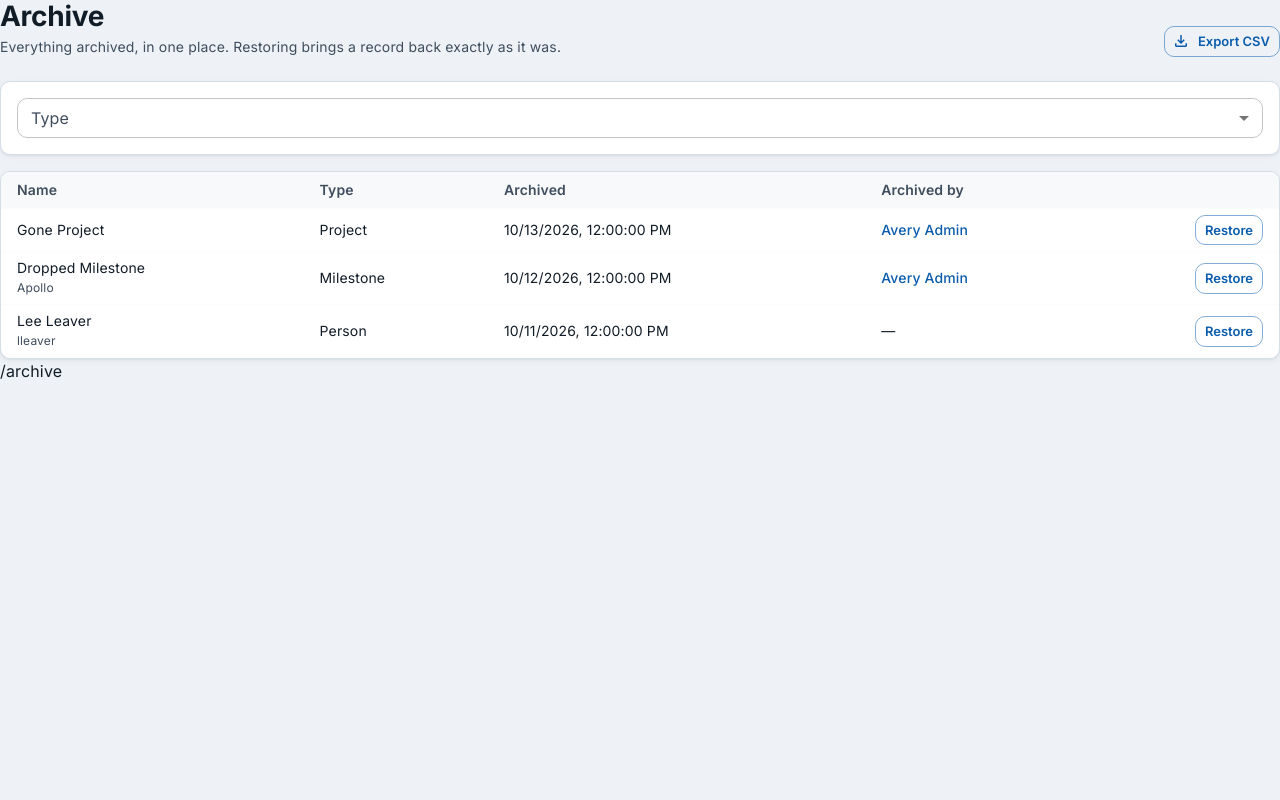
Test: ArchivePage › a failed restore shows the server's message
Click the button with aria-label "restore gone project". click: (1229, 230)
box: [1195,215,1263,246]
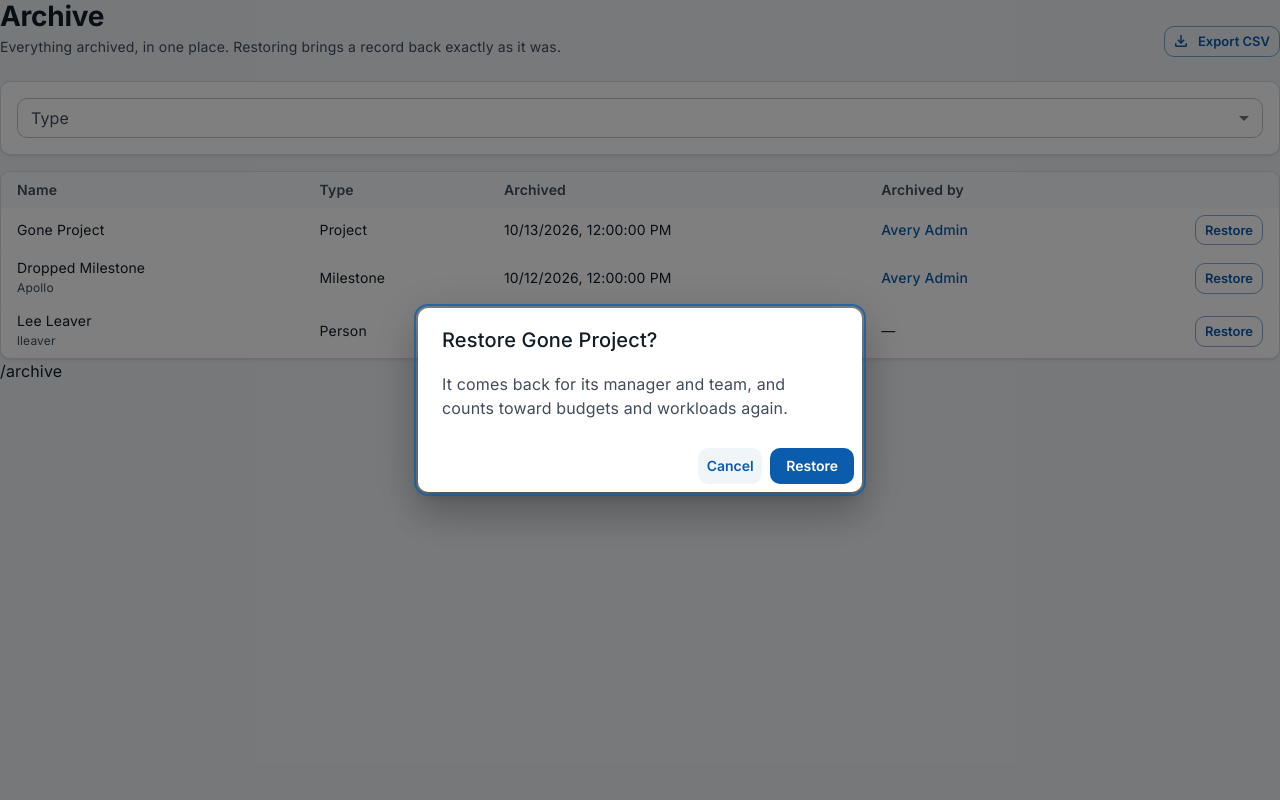
Click the button "Restore". click: (812, 466)
box: [770,448,854,484]
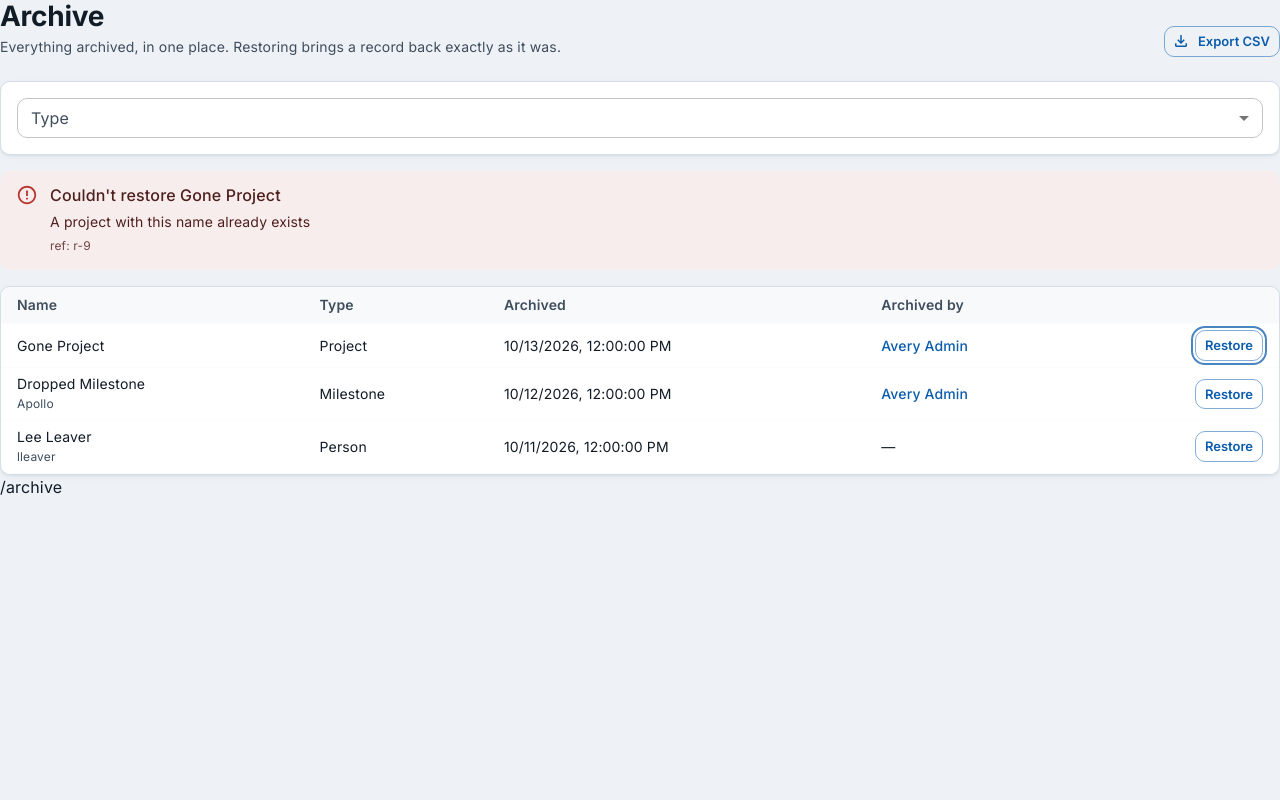
Expected: the message shows "Couldn't restore Gone Project", [50,185,281,205]
Expected: the message shows "A project with this name already exists", [50,213,310,230]
Expected: the message shows "r-9", [73,238,91,253]
